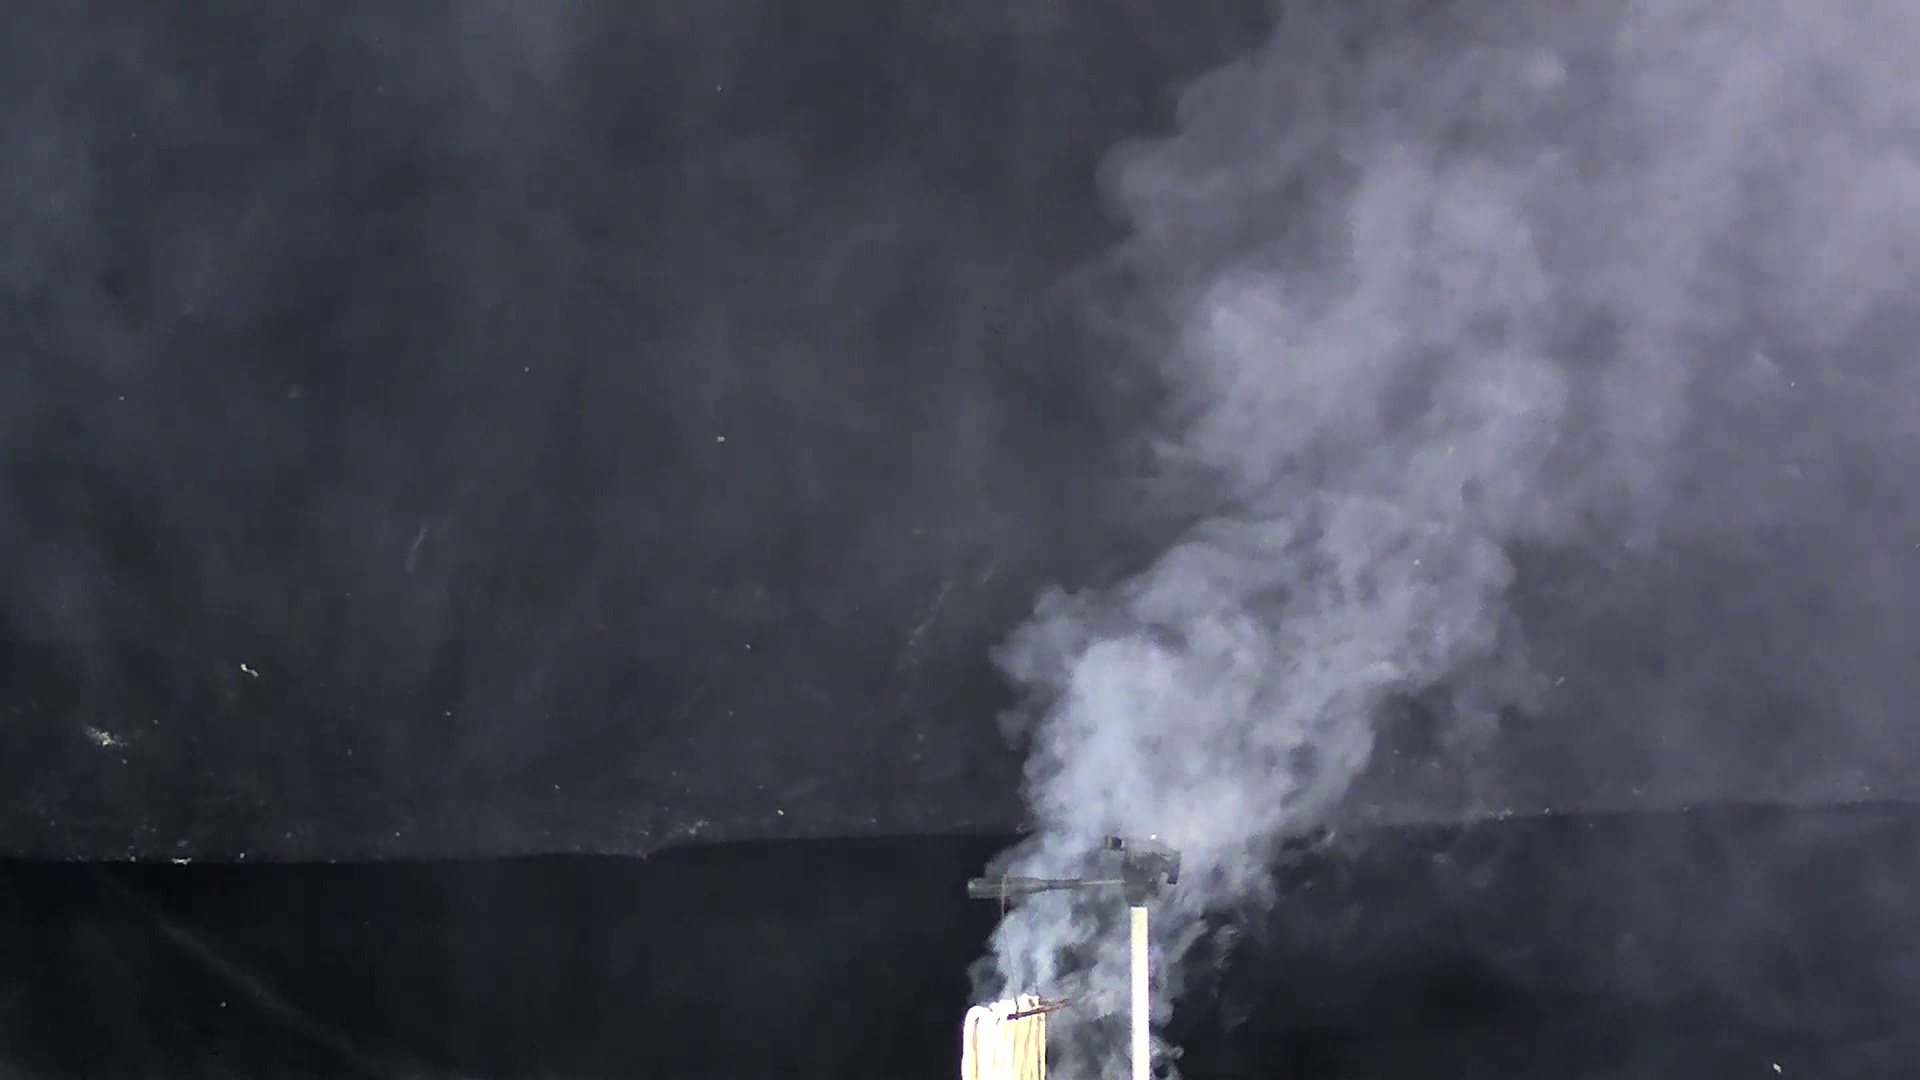smoke: (965, 141, 1606, 1000)
